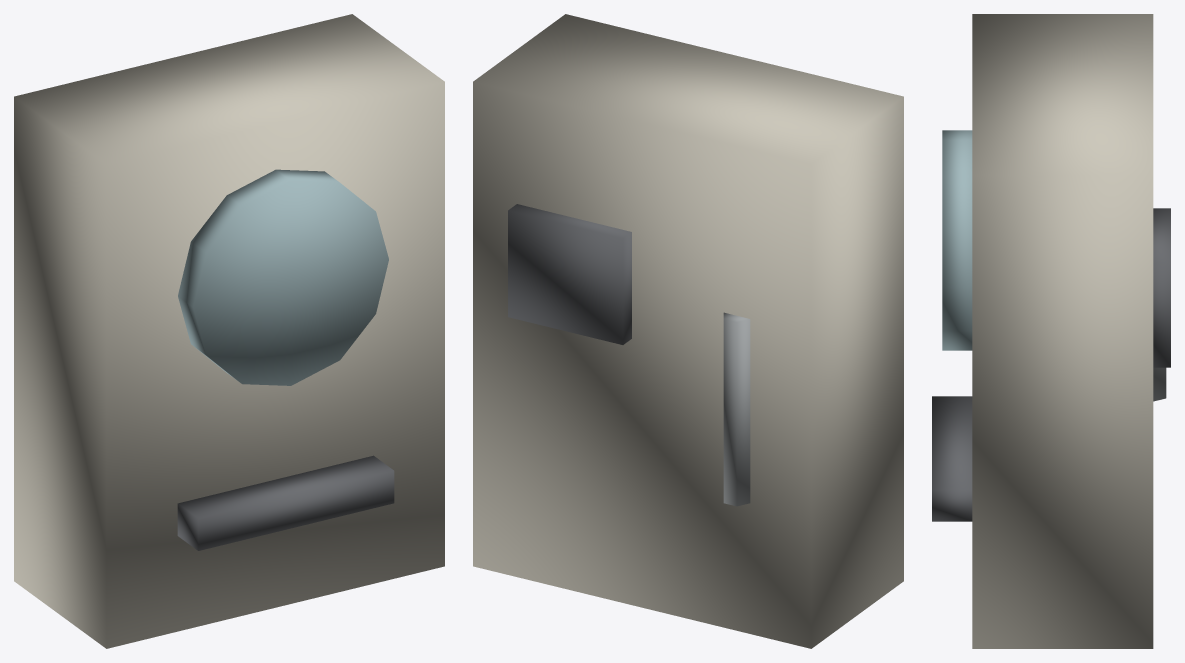
File: employee_punch_clock__service.glb
The picture shows the model from 3 angles, left to right: view 1: azimuth 30°, elevation 25°; view 2: azimuth 150°, elevation 25°; view 3: azimuth 270°, elevation 25°; orthographic projection. The views are drawn at different scales.
Parts seen in each view (by area): view 1: world; view 2: world; view 3: world.
Boxes of the visible parts, <box> form: world: <box>14,14,444,648</box>; world: <box>473,14,903,648</box>; world: <box>932,14,1170,648</box>.
Size of the model in its own units: 0.38 by 0.52 by 0.2375.
